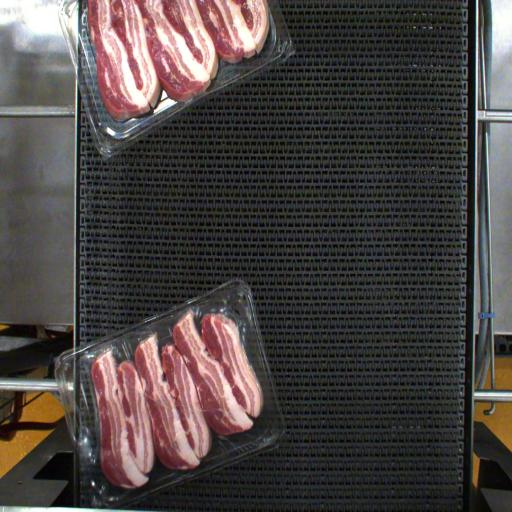unsealed: (68, 292, 303, 482)
